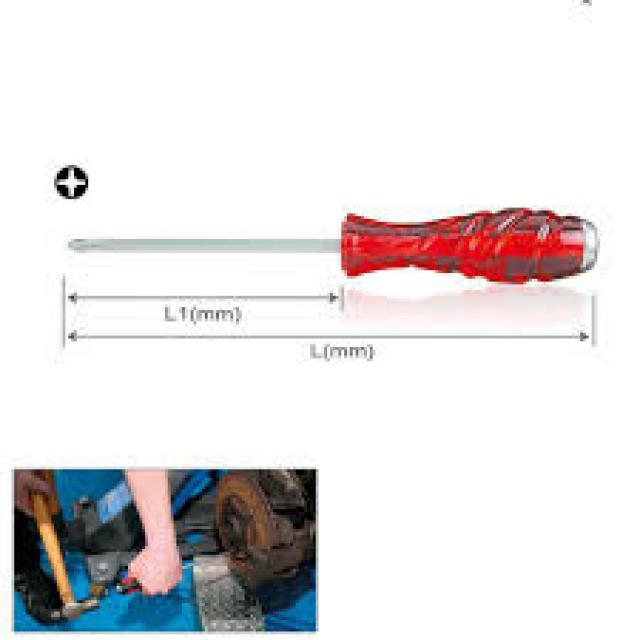hammer: (26, 484, 100, 624)
screwdriver: (45, 204, 618, 290), (112, 546, 246, 606)
